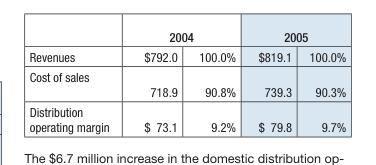table: (28, 28, 345, 133)
table column: (28, 28, 126, 133), (126, 28, 187, 133), (187, 28, 246, 133), (246, 28, 299, 133), (299, 28, 345, 133)
table column header: (28, 28, 345, 66)
table row: (28, 66, 345, 101), (28, 101, 345, 133), (28, 46, 345, 66), (28, 28, 345, 46)
table spanning cell: (28, 28, 126, 66), (126, 28, 246, 46), (246, 28, 345, 46)
